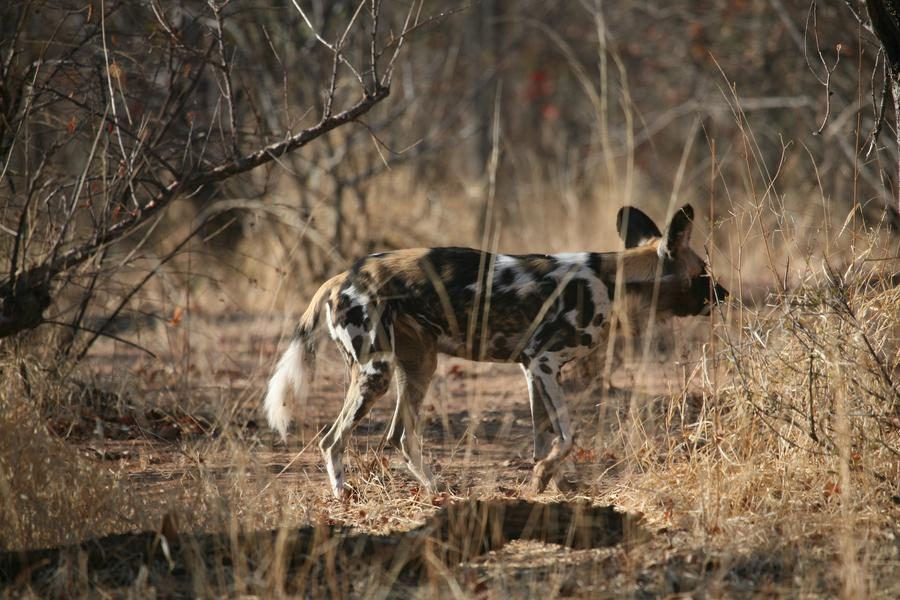wilddog: (287, 209, 739, 480)
